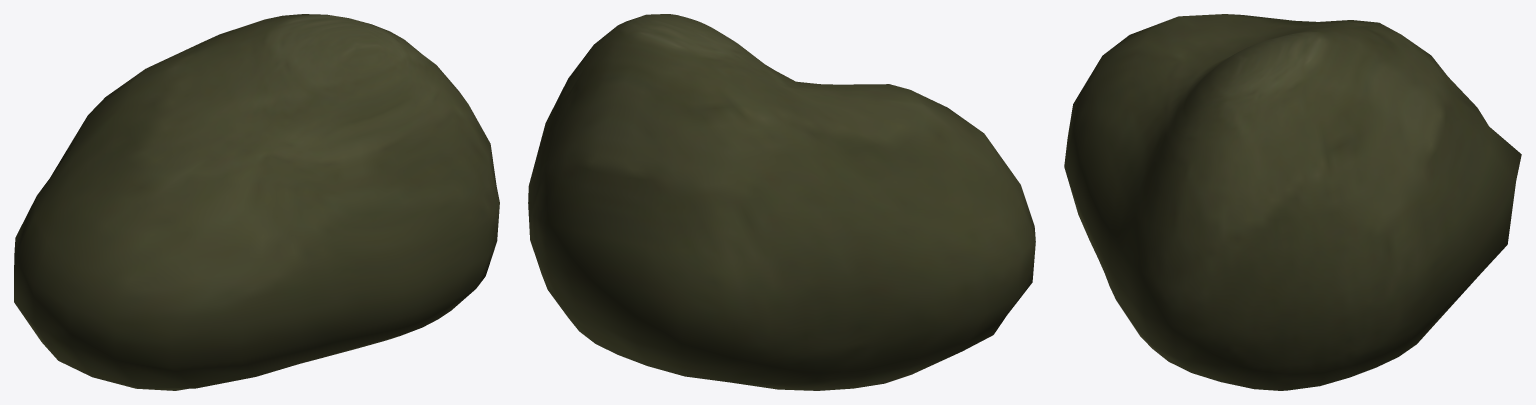
Rendered from Rock1.glb.
3 renders of one model, left to right at view 1: azimuth 30°, elevation 25°; view 2: azimuth 150°, elevation 25°; view 3: azimuth 270°, elevation 25°, orthographic. The views are drawn at different scales.
Visible parts, largest first — view 1: Esfera.002; view 2: Esfera.002; view 3: Esfera.002.
Part boxes in pixels (<box>): Esfera.002: <box>14,14,499,390</box>; Esfera.002: <box>528,14,1035,390</box>; Esfera.002: <box>1064,14,1521,390</box>.
Size of the model in its own units: 26.06 by 16.45 by 21.38.
1 material, 1 textured.
